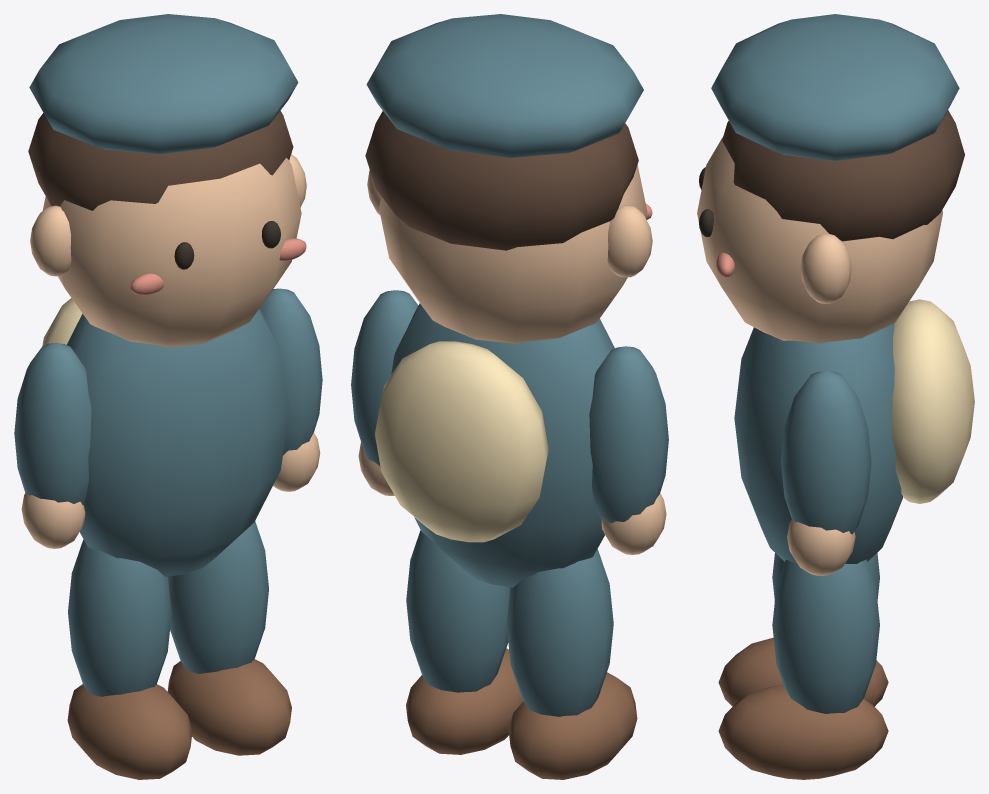
The model's file is walker-student.glb.
3 renders of one model, left to right at view 1: azimuth 30°, elevation 25°; view 2: azimuth 150°, elevation 25°; view 3: azimuth 270°, elevation 25°, orthographic. The views are drawn at different scales.
Visible parts, largest first — view 1: backpack; view 2: backpack; view 3: backpack.
Part boxes in pixels (<box>): backpack: <box>14,14,322,779</box>; backpack: <box>351,14,668,779</box>; backpack: <box>697,14,974,779</box>.
Bounding box in the file's own units: 0.558 × 1.28 × 0.454.
